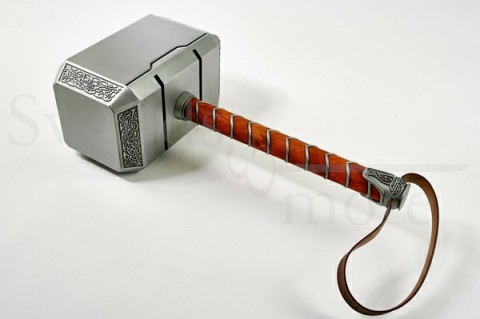THOR Hammer: (41, 11, 418, 221)
